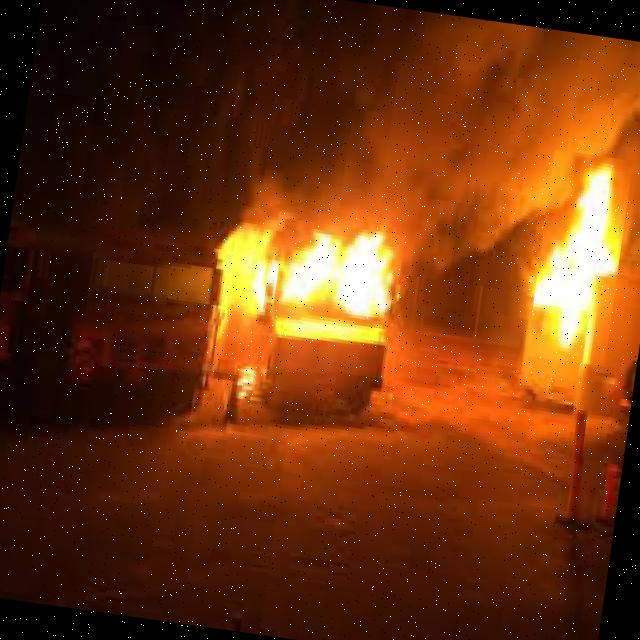fire: (526, 150, 632, 366), (271, 221, 405, 337)
